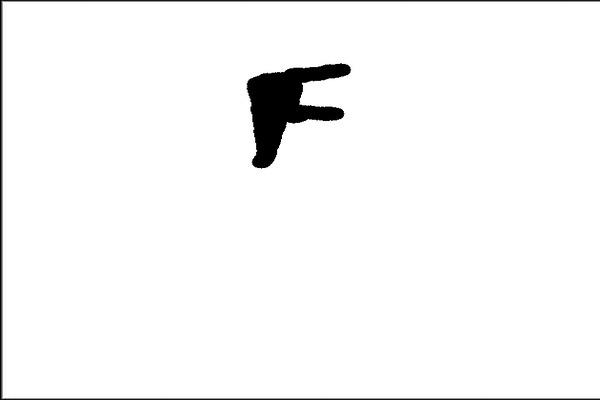F: (241, 59, 358, 172)
